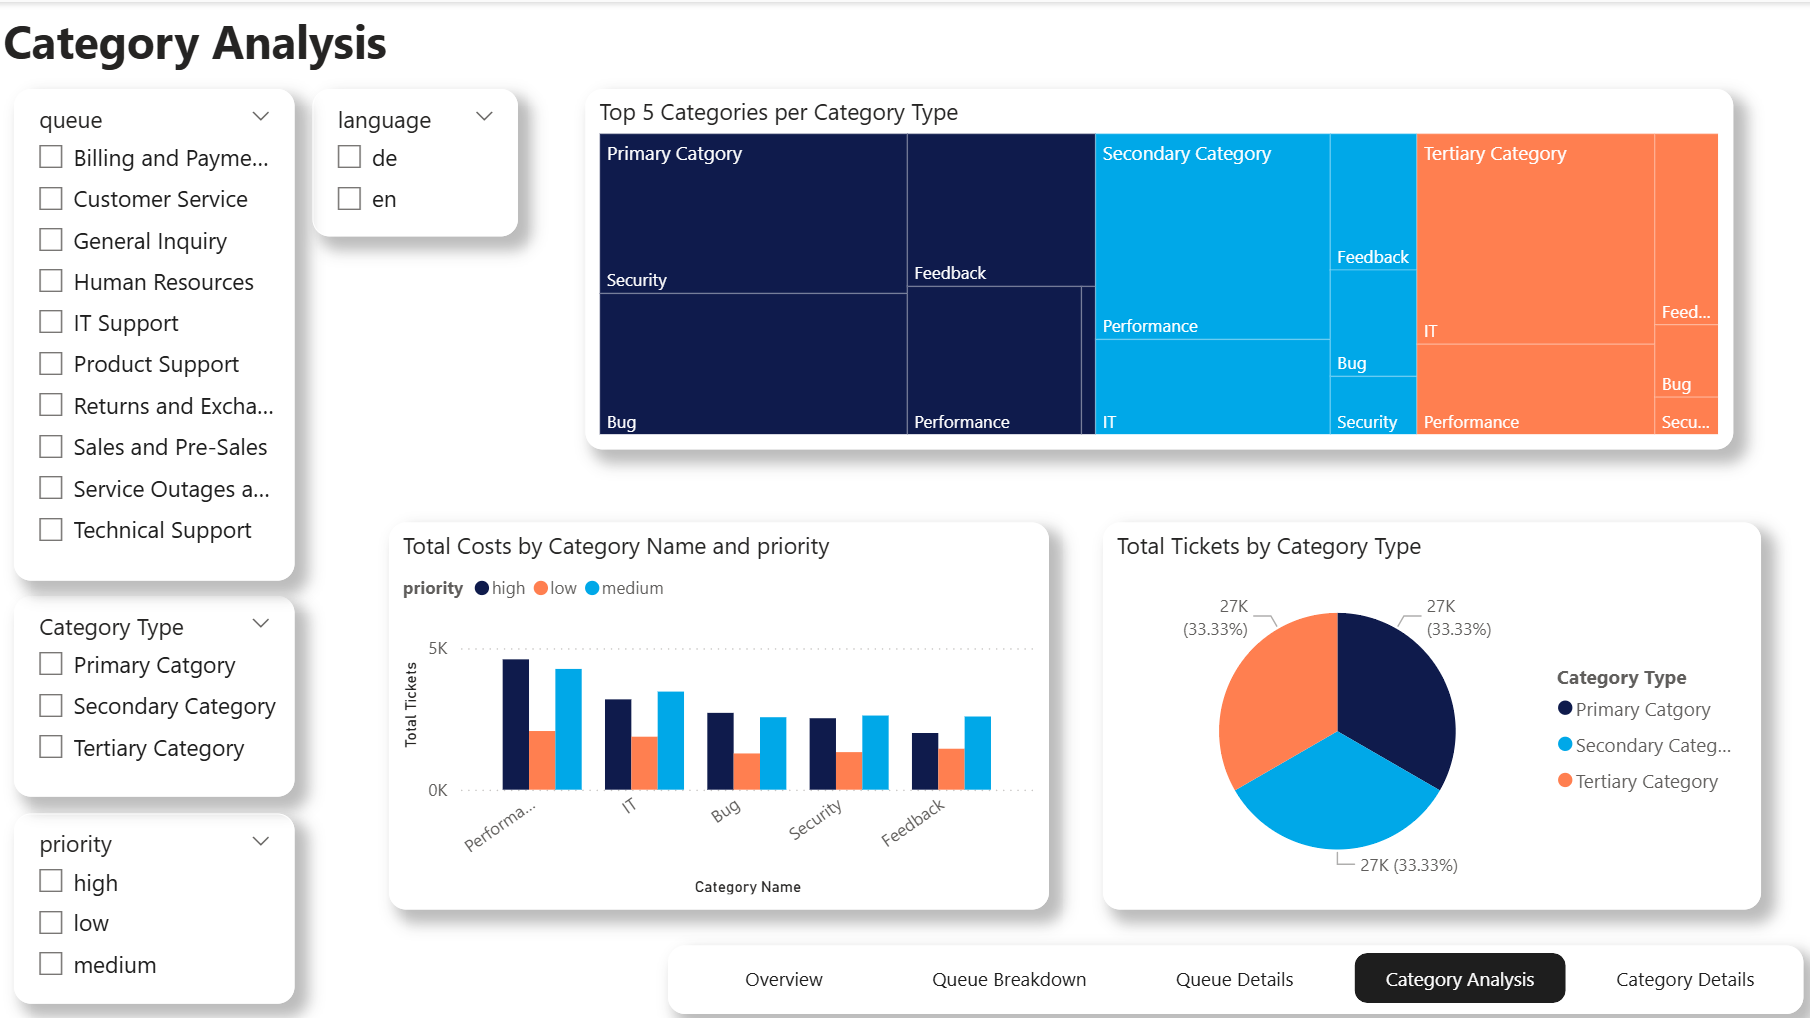

Layout of this report page (visuals, bound fields, positions):
{"tool":"powerbi","page":{"name":"Category Analysis","canvas":[1280,720],"ordinal":3},"visuals":[{"type":"shape","box":[471,661,796,48],"z":0},{"type":"slicer","fields":{"Values":["dataset.Category Type"]},"box":[12.6,416.4,196.7,140.9],"z":1000},{"type":"slicer","fields":{"Values":["dataset.priority"]},"box":[12.6,568.9,196.7,133.6],"z":2000},{"type":"slicer","fields":{"Values":["dataset.queue"]},"box":[12.6,61,196.7,344.9],"z":3000},{"type":"slicer","fields":{"Values":["dataset.language"]},"box":[221.9,61,144.1,103.1],"z":4000},{"type":"clusteredColumnChart","title":"Total Costs by Category Name and priority","fields":{"Category":["dataset.Category Name"],"Y":["Table.Total Tickets"],"Series":["dataset.priority"]},"box":[275.5,364.9,462.7,271.3],"z":5000},{"type":"pieChart","fields":{"Category":["dataset.Category Type"],"Y":["Table.Total Tickets"]},"box":[776.1,364.9,461.7,271.3],"z":6000},{"type":"treemap","title":"Top 5 Categories per Category Type","fields":{"Group":["dataset.Category Type"],"Details":["dataset.Category Name"],"Values":["Table.Total Tickets"]},"box":[413.3,61,804.5,252.4],"z":7000},{"type":"bookmarkNavigator","box":[209.3,310.2,258.7,37.9],"z":8000},{"type":"pageNavigator","box":[478.5,666.7,780.3,35.8],"z":9000},{"type":"textbox","box":[0,0,306,67.3],"z":10000}]}

Visuals, with their boxes in screenshot pixels (x1, y1, x2, y2), scaled from the page's 1280x720 canvas onto the 1810x1018 screenshot:
shape: 666 935 1792 1002
slicer - dataset.Category Type: 18 589 296 788
slicer - dataset.priority: 18 804 296 993
slicer - dataset.queue: 18 86 296 574
slicer - dataset.language: 314 86 518 232
"Total Costs by Category Name and priority" clusteredColumnChart: 390 516 1044 900
pieChart - dataset.Category Type x Table.Total Tickets: 1097 516 1750 900
"Top 5 Categories per Category Type" treemap: 584 86 1722 443
bookmarkNavigator: 296 439 662 492
pageNavigator: 677 943 1780 993
textbox: 0 0 433 95
